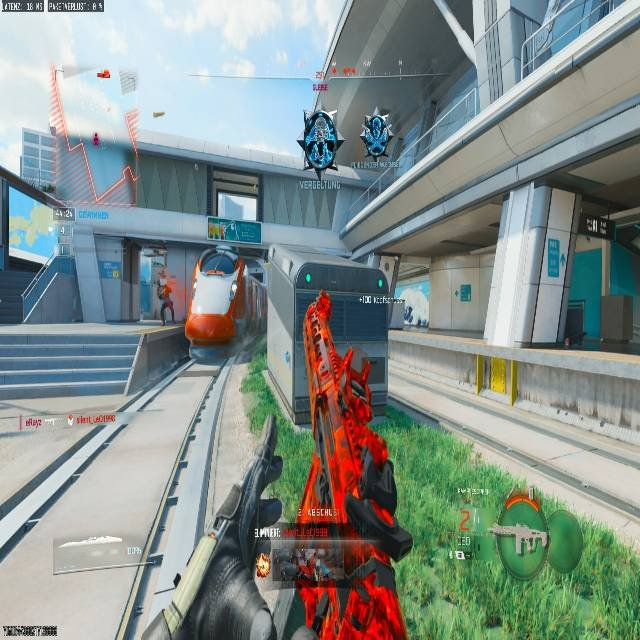head: (317, 290, 330, 307)
player: (301, 106, 338, 173), (304, 292, 331, 356), (361, 109, 393, 162), (157, 281, 174, 325), (403, 304, 413, 323)
